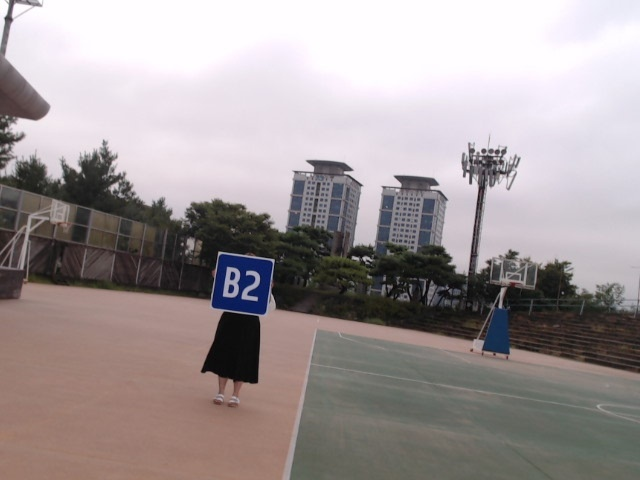delivery_b2: (211, 253, 275, 316)
